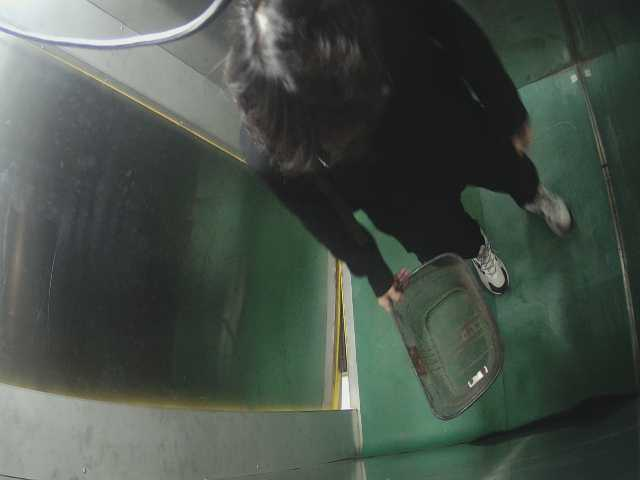person: (223, 3, 573, 289)
